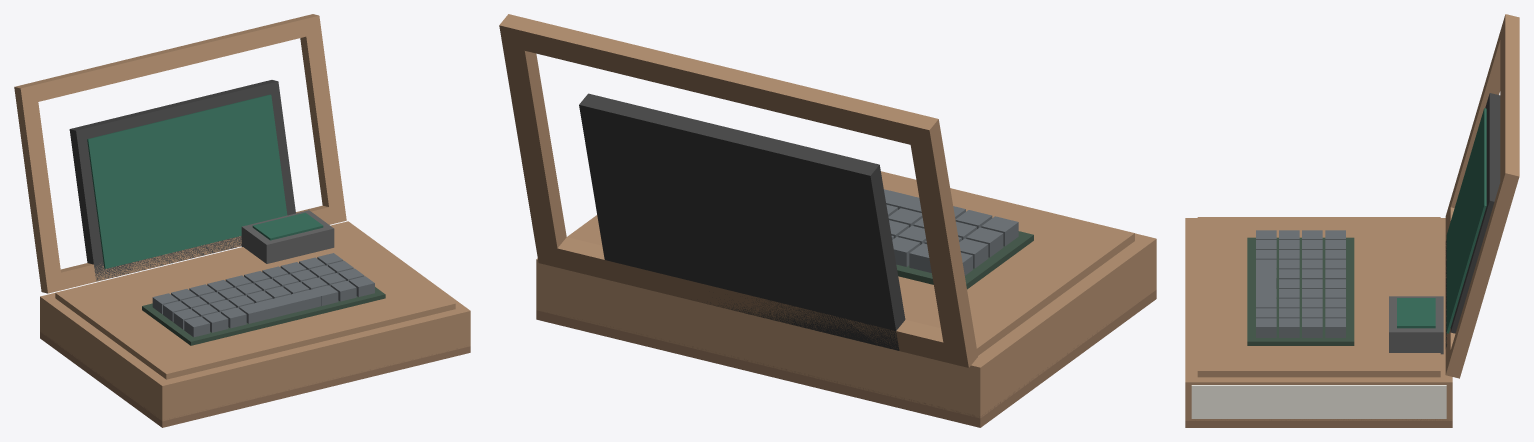
File: build-stealth-book.glb
3 renders of one model, left to right at view 1: azimuth 30°, elevation 25°; view 2: azimuth 150°, elevation 25°; view 3: azimuth 270°, elevation 25°, orthographic. The views are drawn at different scales.
Visible parts, largest first — view 1: geometry_9, geometry_1, geometry_0, geometry_8, geometry_4, geometry_6, geometry_7, geometry_2, geometry_5, geometry_51, geometry_10, geometry_52 (+2 smaller); view 2: geometry_8, geometry_0, geometry_1, geometry_4, geometry_5, geometry_6, geometry_7, geometry_2, geometry_10, geometry_41, geometry_31; view 3: geometry_1, geometry_3, geometry_0, geometry_9, geometry_10, geometry_4, geometry_7, geometry_8, geometry_51, geometry_2, geometry_6, geometry_52 (+6 smaller).
Boxes of the visible parts, x1,y1,x2,y2 form: geometry_9: (87,94,287,268); geometry_1: (55,222,455,379); geometry_0: (40,221,470,421); geometry_8: (69,80,295,281); geometry_4: (14,14,321,105); geometry_6: (14,86,62,293); geometry_7: (298,15,346,223); geometry_2: (40,331,470,427); geometry_5: (39,204,346,293); geometry_51: (241,210,334,263); geometry_10: (142,287,385,345); geometry_52: (252,212,323,240); geometry_8: (579,93,905,350); geometry_0: (536,215,1156,418); geometry_1: (572,171,1134,355); geometry_4: (499,14,941,149); geometry_5: (535,237,977,367); geometry_6: (907,114,977,367); geometry_7: (499,14,566,267); geometry_2: (536,290,1156,427); geometry_10: (896,231,1033,289); geometry_41: (981,216,1018,246); geometry_31: (966,227,1003,257); geometry_1: (1197,217,1440,377); geometry_3: (1191,385,1446,418); geometry_0: (1185,218,1452,420); geometry_9: (1446,108,1486,333); geometry_10: (1247,237,1354,345); geometry_4: (1500,14,1519,193); geometry_7: (1445,168,1519,377); geometry_8: (1445,93,1500,348); geometry_51: (1389,296,1443,354); geometry_2: (1185,419,1452,427); geometry_6: (1445,14,1519,223); geometry_52: (1397,298,1435,328).
Bounding box in the file's own units: 0.322 × 0.2291 × 0.275.
